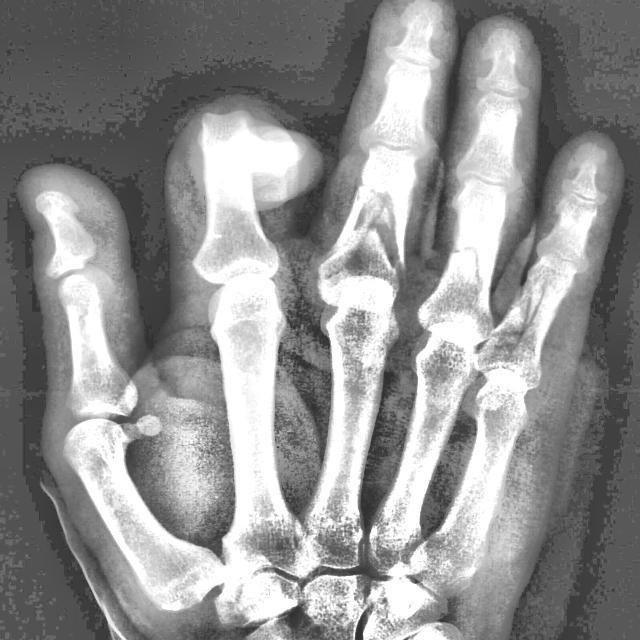fracture: (318, 174, 410, 281), (486, 283, 550, 354), (202, 108, 262, 181), (448, 238, 496, 286), (355, 536, 370, 568)
